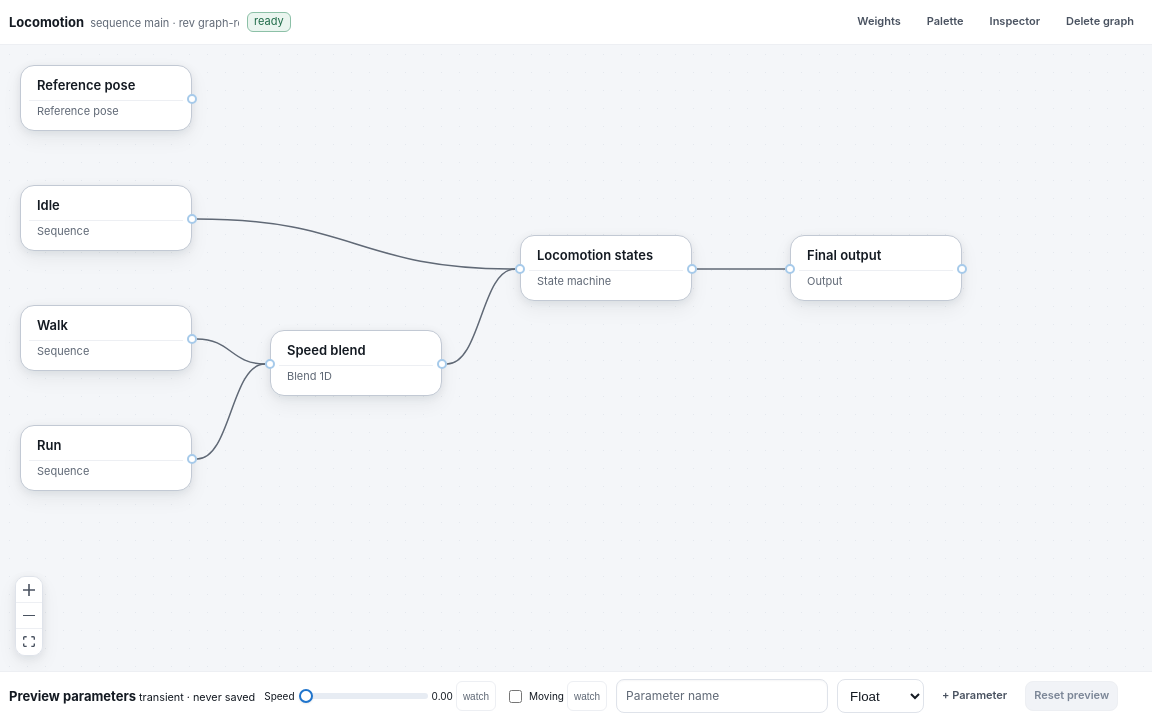
a rejected save preserves the edited draft and exposes addressable diagnostics
Click the button "Palette". click: (945, 22)
box: [918,7,973,37]
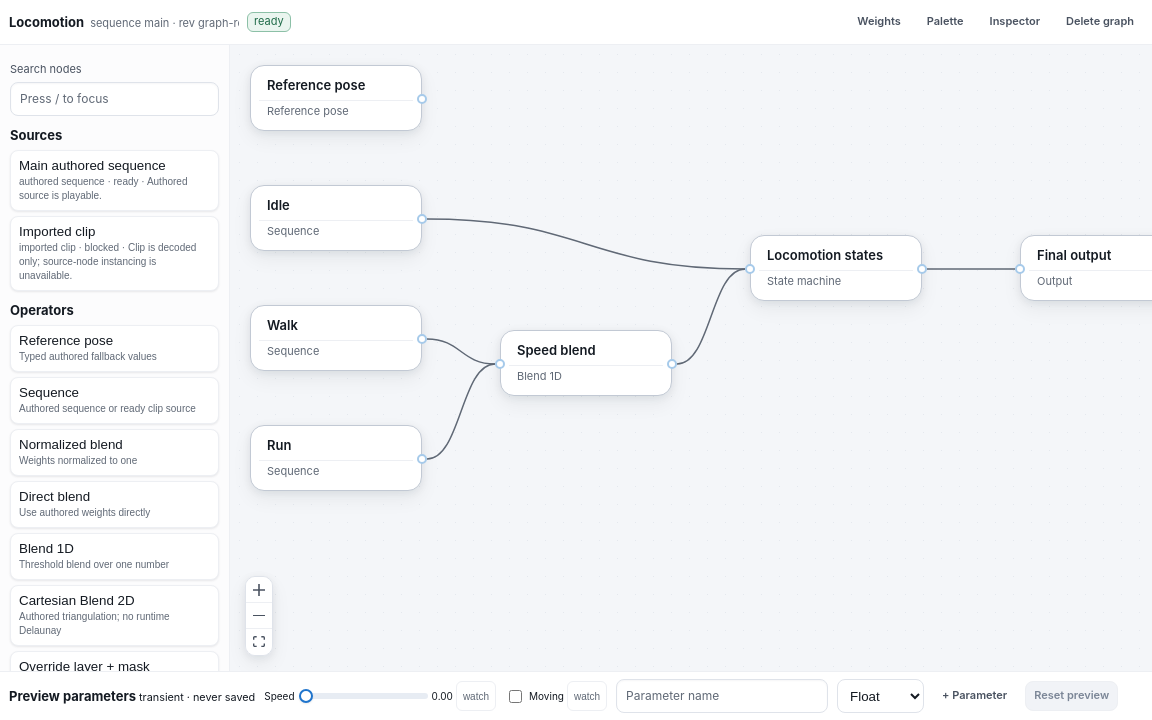
Click the button "Inspector". click: (1015, 22)
box: [981,7,1049,37]
(page scrolled)
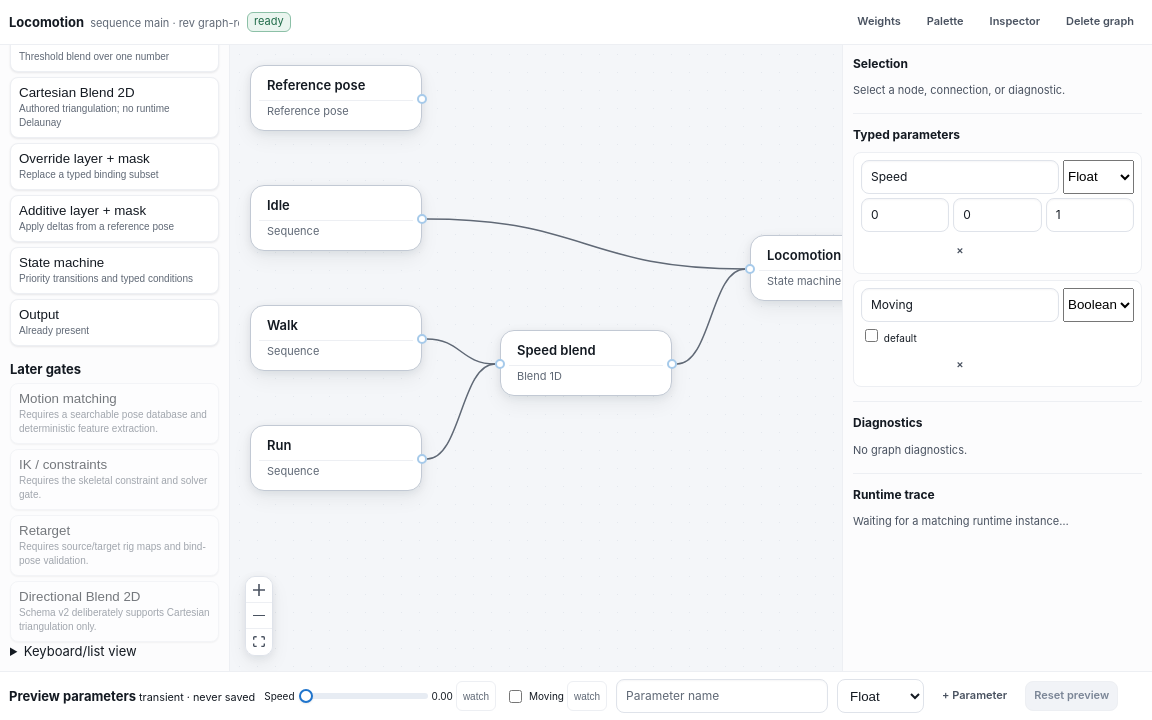
Click the heading "Keyboard/list view". click: (80, 652)
box: [24,644,137,660]
(page scrolled)
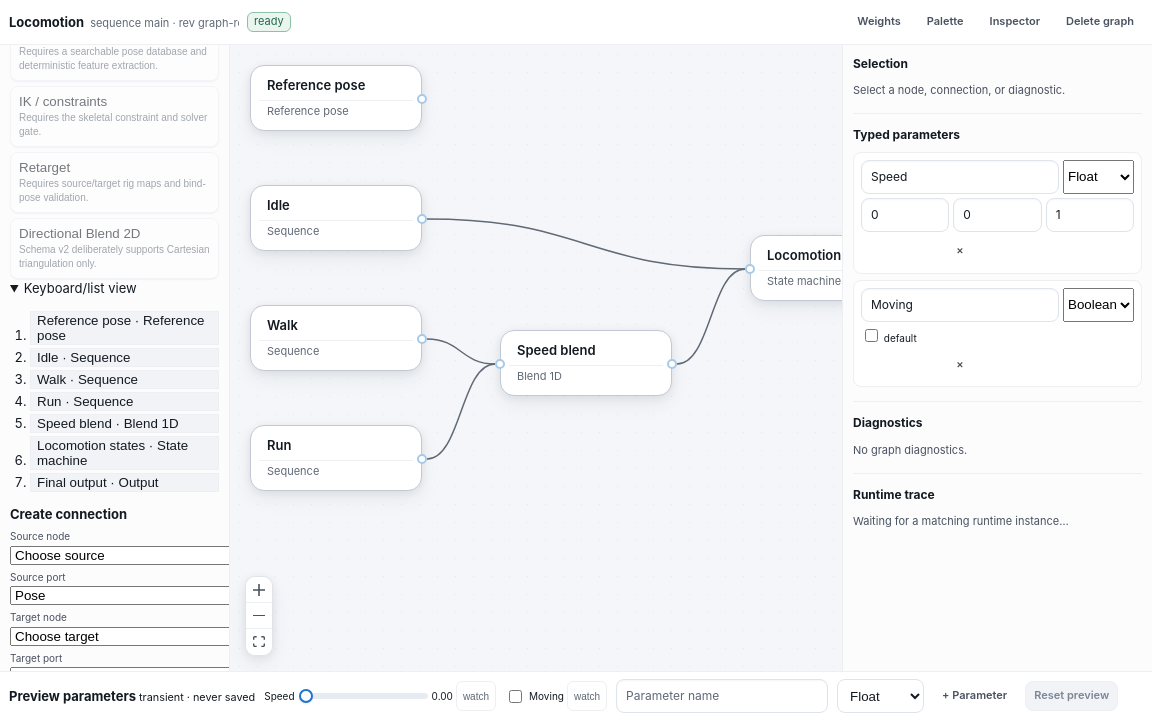
Click the button "Idle · Sequence". click: (124, 358)
box: [30,348,219,367]
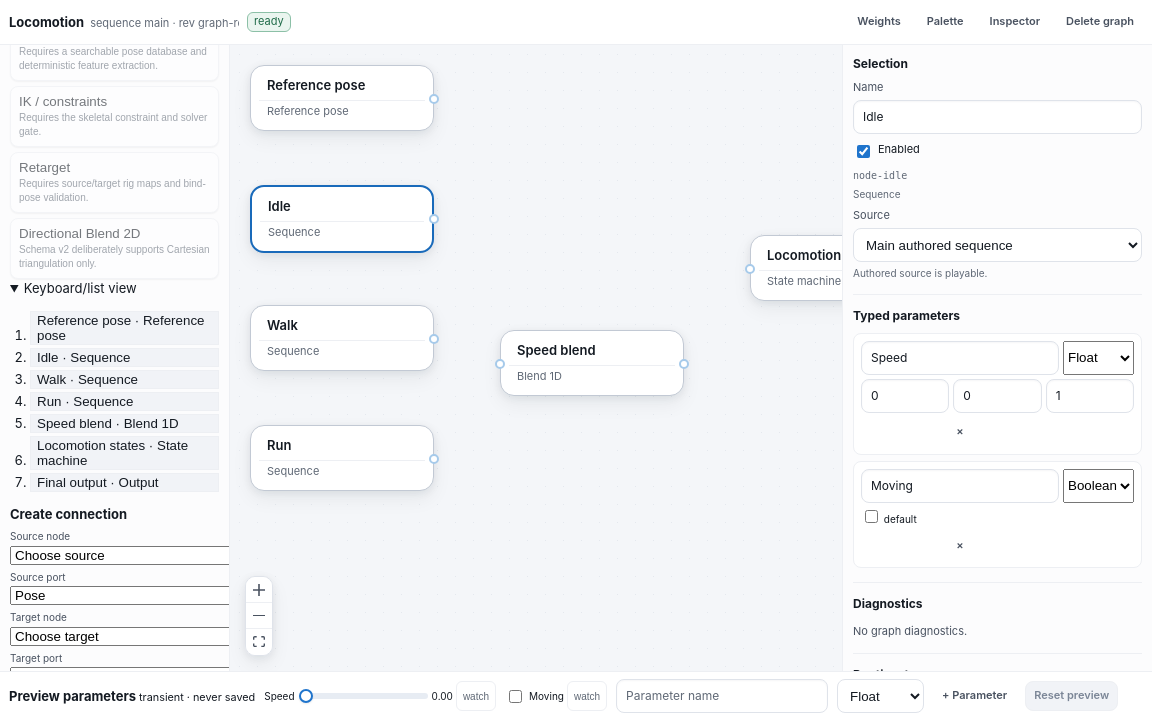
Replace the text in the field labelled "Name" with "Idle draft". click: (998, 117)
box: [853,100,1142,134]
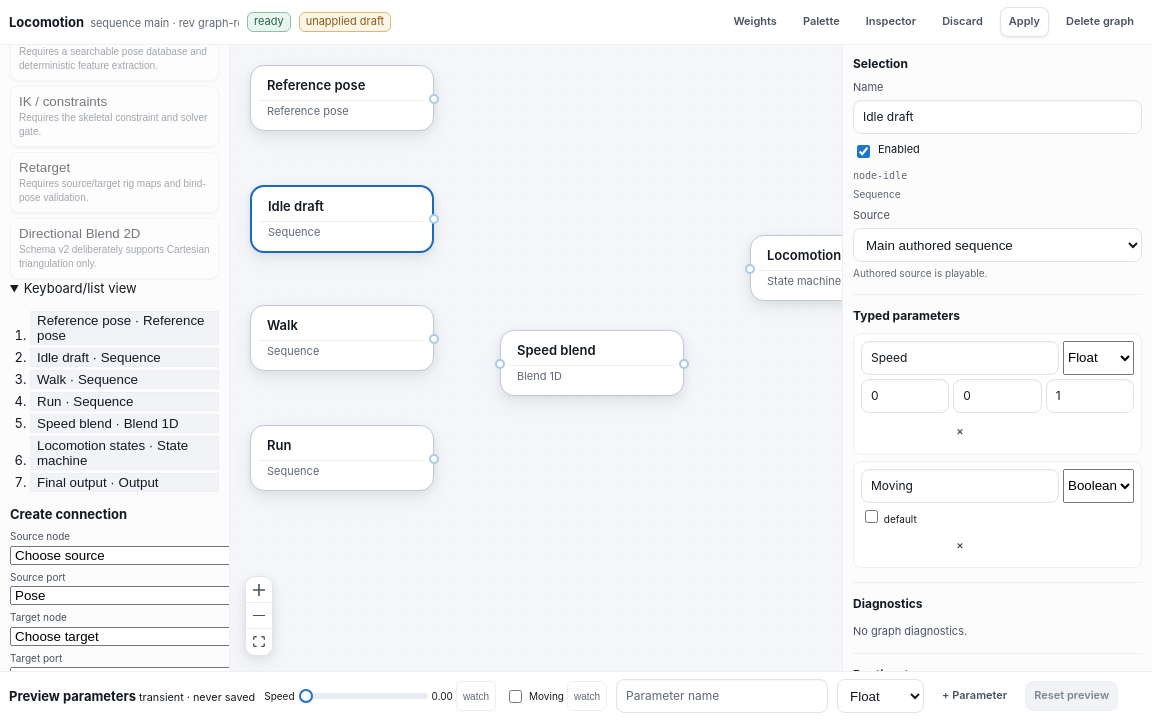
Click the button with test id "animation-graph-apply". click: (1024, 22)
box: [1000,7,1049,37]
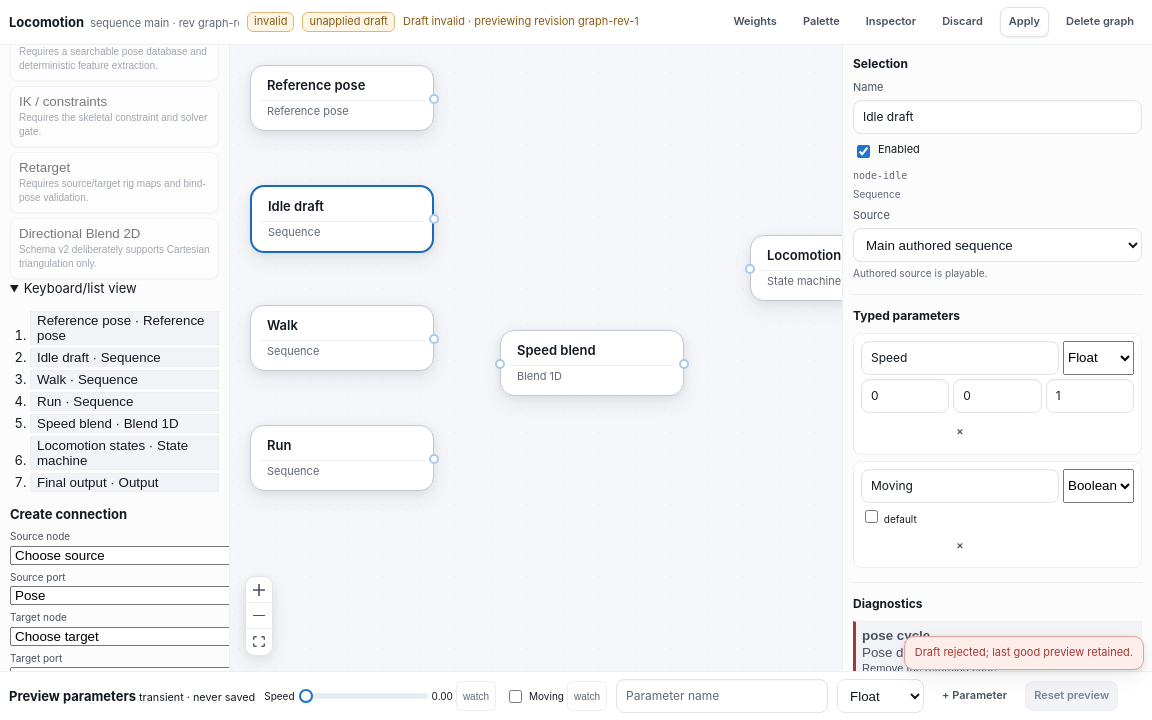
Expected: the text "unapplied draft" is shown, [302,12,395,32]
Expected: the text "Draft rejected; last good preview retained." is shown 2 times
Expected: the text "Pose dataflow contains a cycle." is shown, [862,644,1048,660]
